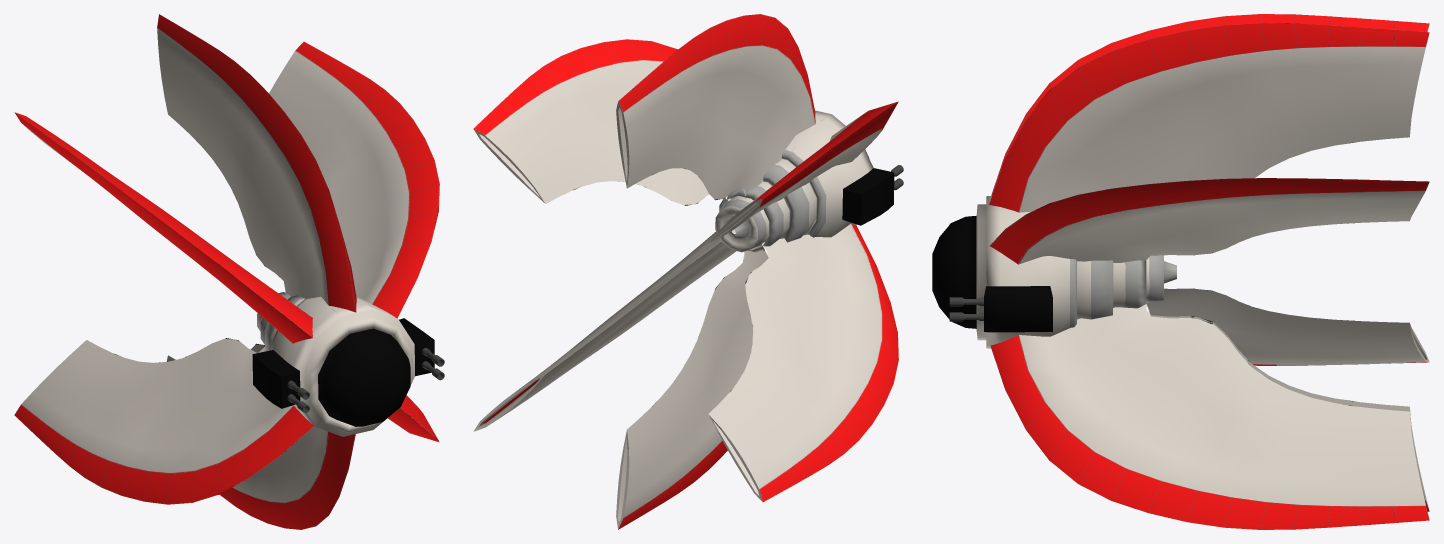
The model's file is light_ship_combined.fbx.
The picture shows the model from 3 angles, left to right: view 1: azimuth 30°, elevation 25°; view 2: azimuth 150°, elevation 25°; view 3: azimuth 270°, elevation 25°; orthographic projection. The views are drawn at different scales.
Visible parts, largest first — view 1: geo_lightShip; view 2: geo_lightShip; view 3: geo_lightShip.
Boxes of the visible parts, x1,y1,x2,y2 form: geo_lightShip: [14, 14, 444, 529]; geo_lightShip: [473, 14, 903, 529]; geo_lightShip: [932, 14, 1429, 529].
Size of the model in its own units: 11.96 by 16.92 by 15.33.
Materials: 1 (1 with a texture image).
